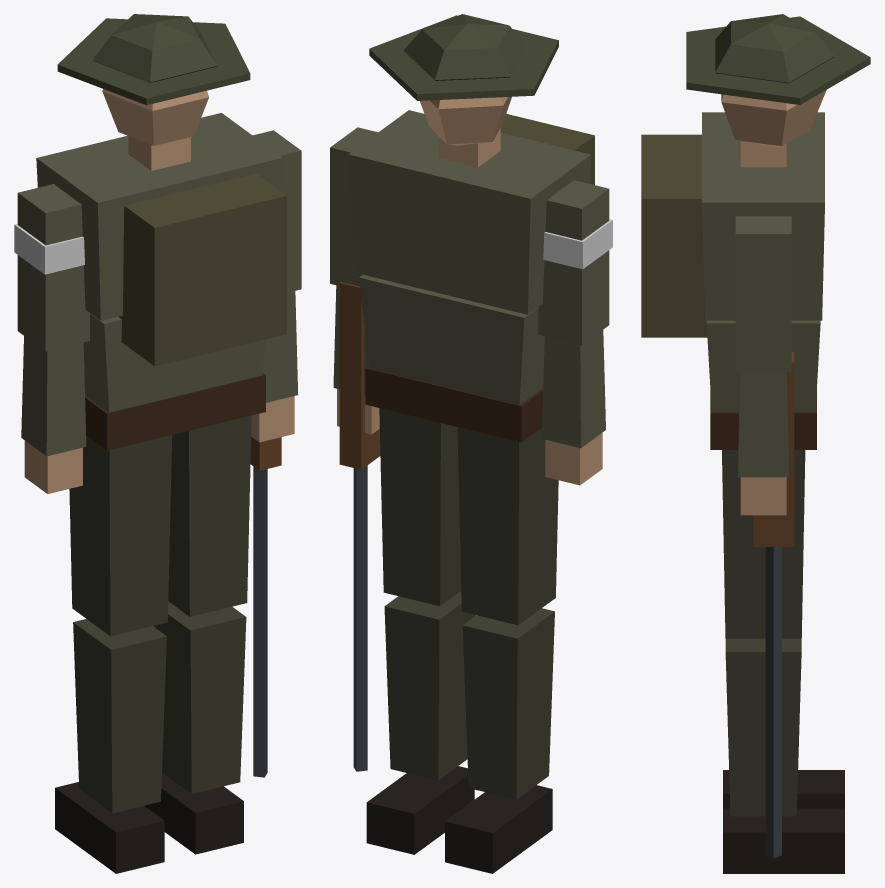
The model's file is soldier_c20_rifle_lod1.glb.
3 renders of one model, left to right at view 1: azimuth 30°, elevation 25°; view 2: azimuth 150°, elevation 25°; view 3: azimuth 270°, elevation 25°, orthographic.
Visible parts, largest first — view 1: c20_rifle_lod1_static; view 2: c20_rifle_lod1_static; view 3: c20_rifle_lod1_static.
Part boxes in pixels (bbox=[...]): c20_rifle_lod1_static: bbox=[14, 14, 301, 873]; c20_rifle_lod1_static: bbox=[330, 14, 612, 873]; c20_rifle_lod1_static: bbox=[641, 14, 870, 873].
Size of the model in its own units: 0.585 by 1.78 by 0.45.
